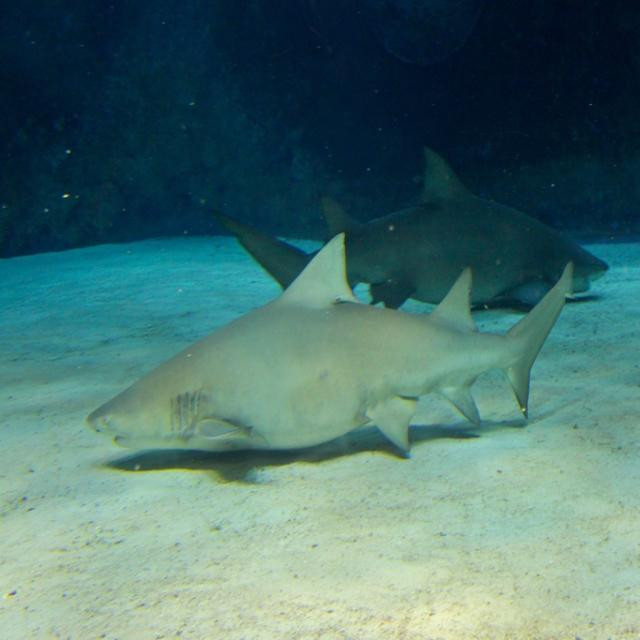Shark: (89, 230, 574, 452), (233, 146, 608, 311)
